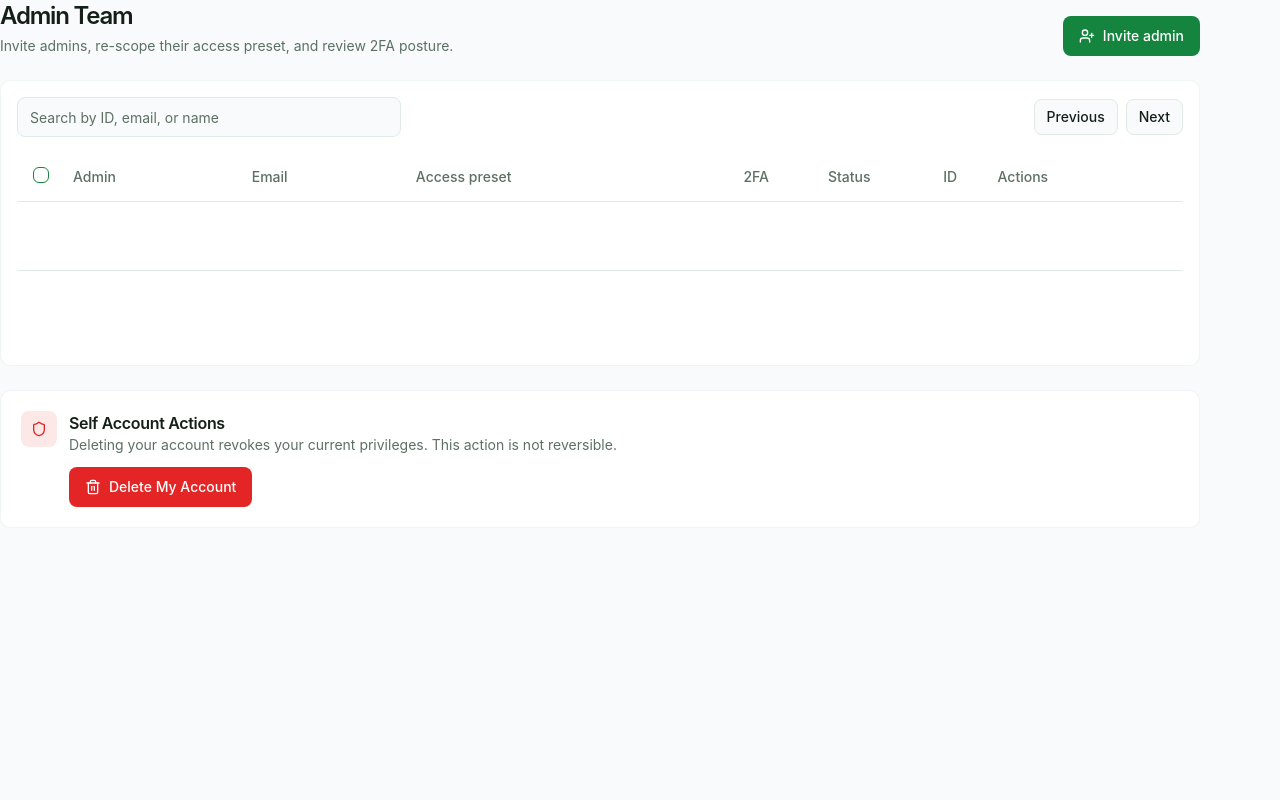
Scenario: admin team page › shows preset descriptions inside the invite picker
The image size is (1280, 800).
Click the button "Invite admin": {"x": 1131, "y": 36} top-left (1063, 16), bottom-right (1200, 56)
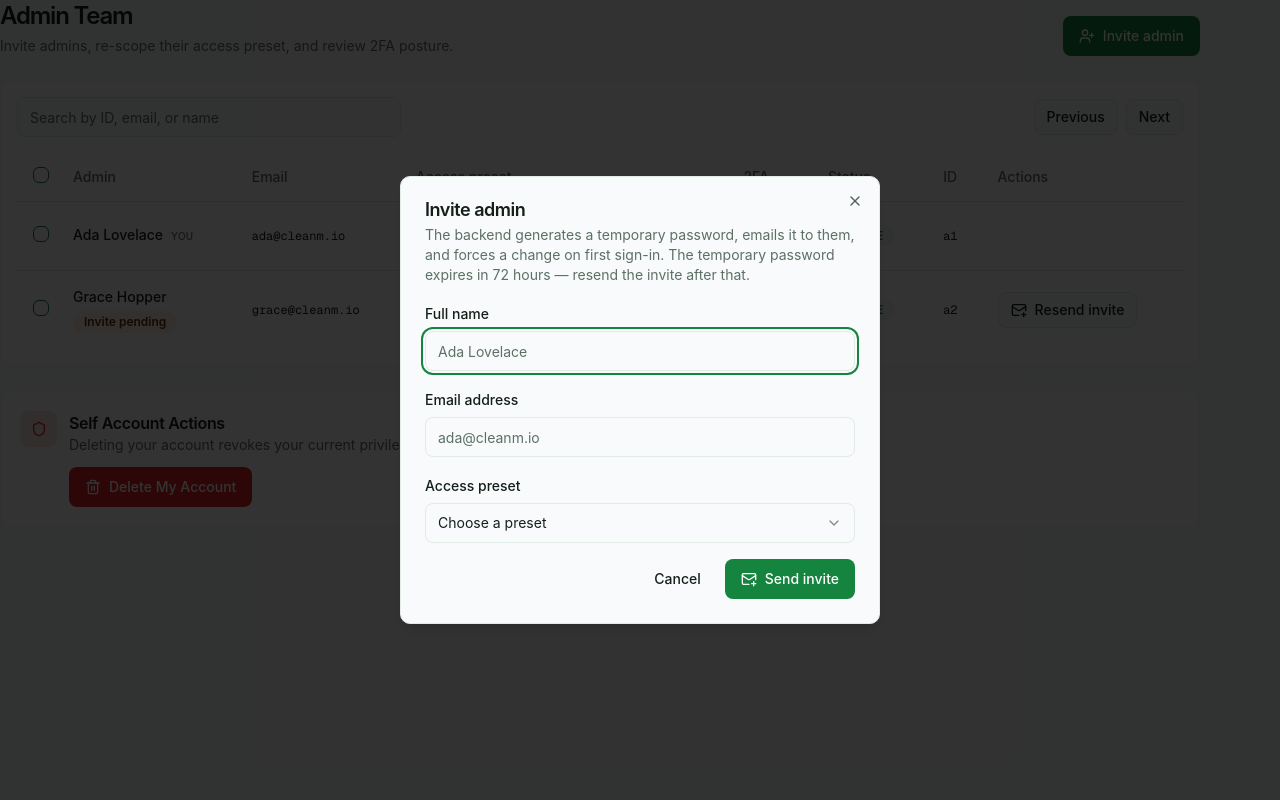
Press Enter in the dropdown named "Access preset", box top-left (425, 503), bottom-right (855, 543)
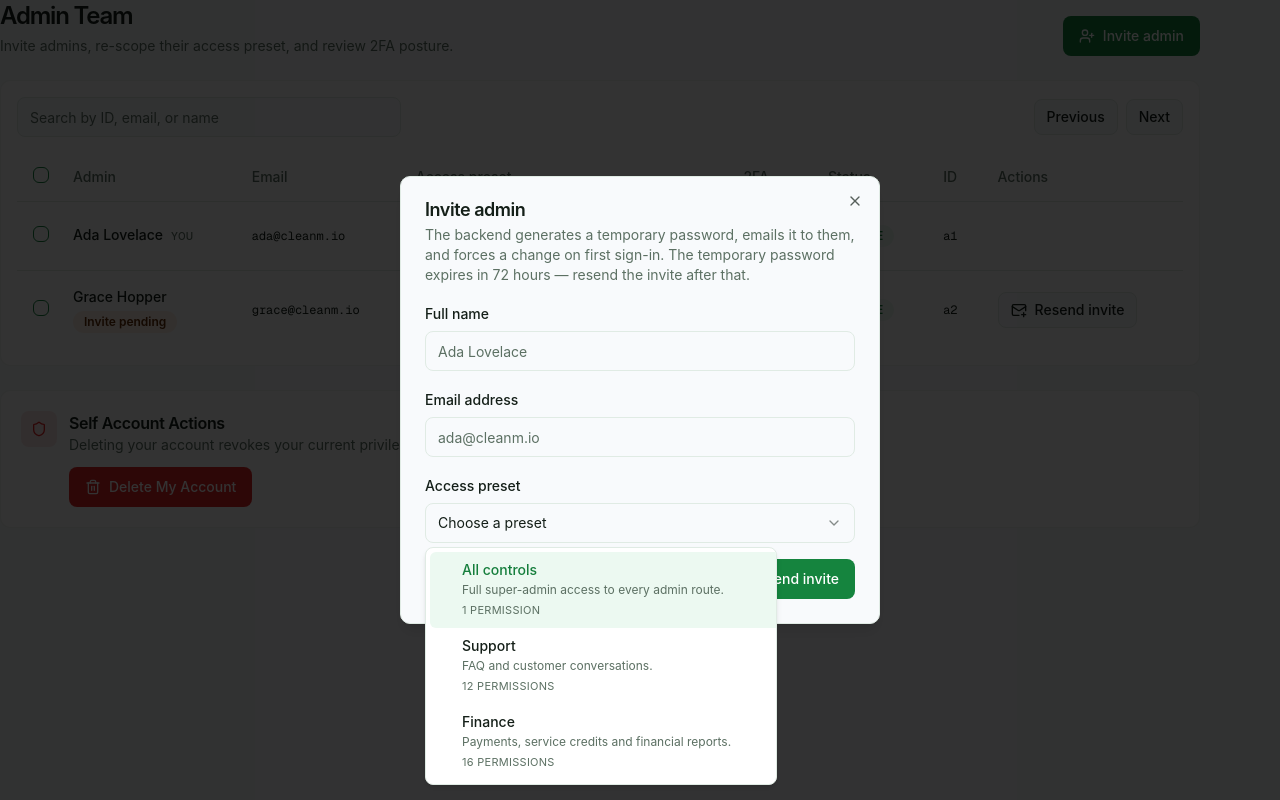
Expected: the text "FAQ and customer conversations." is shown, top-left (462, 658), bottom-right (653, 674)
Expected: the text "Payments, service credits and financial reports." is shown, top-left (462, 734), bottom-right (731, 750)
